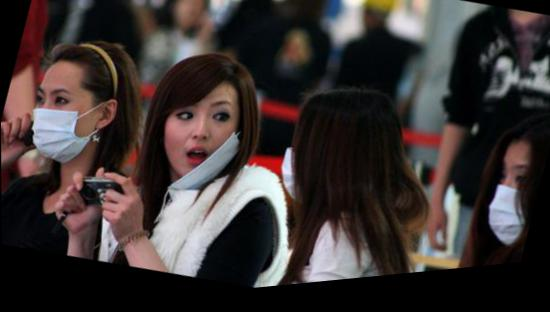OK: (20, 74, 114, 174), (472, 157, 547, 264)
WRONG: (156, 90, 247, 196)
